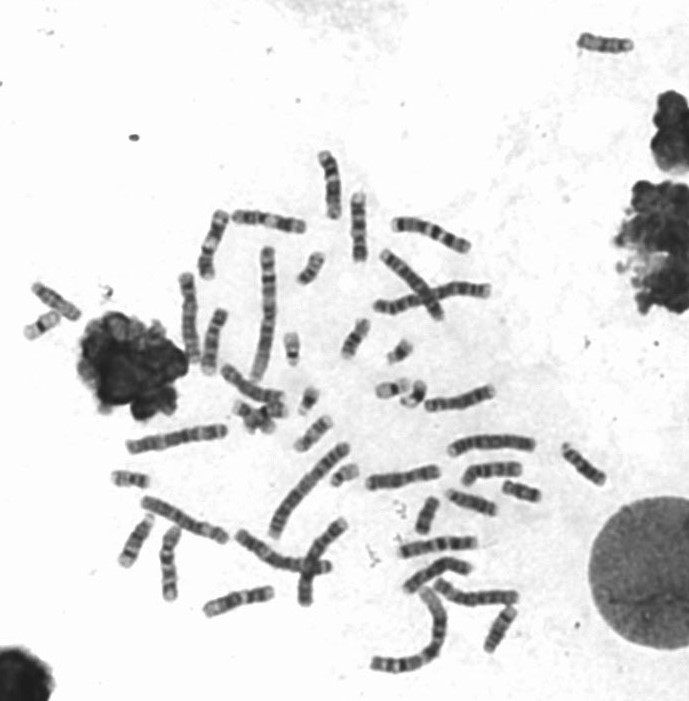chromosomes: (264, 439, 354, 541), (368, 584, 450, 679), (378, 244, 450, 328), (295, 514, 358, 609), (244, 236, 280, 394), (236, 527, 347, 573), (141, 494, 234, 547), (393, 212, 484, 265), (365, 285, 506, 318), (120, 421, 236, 457), (398, 554, 480, 601), (559, 434, 619, 494), (433, 576, 530, 610), (221, 360, 288, 407), (571, 25, 644, 68), (361, 461, 451, 495), (423, 380, 512, 414), (440, 484, 512, 526), (195, 208, 232, 288), (442, 431, 543, 460), (347, 180, 379, 271), (112, 513, 158, 575), (177, 269, 205, 370), (29, 281, 93, 325), (203, 584, 277, 621), (200, 303, 232, 388), (315, 142, 347, 224), (389, 535, 486, 562), (285, 413, 338, 458), (492, 480, 559, 515), (161, 519, 185, 613), (480, 602, 518, 658), (451, 463, 530, 487), (339, 315, 374, 368), (233, 398, 281, 436), (289, 247, 329, 292), (16, 314, 70, 344), (408, 493, 443, 538), (243, 400, 291, 431), (400, 375, 430, 421), (106, 464, 152, 493), (328, 461, 370, 492), (370, 378, 414, 405), (281, 324, 305, 373), (383, 339, 415, 373), (300, 383, 323, 425)
